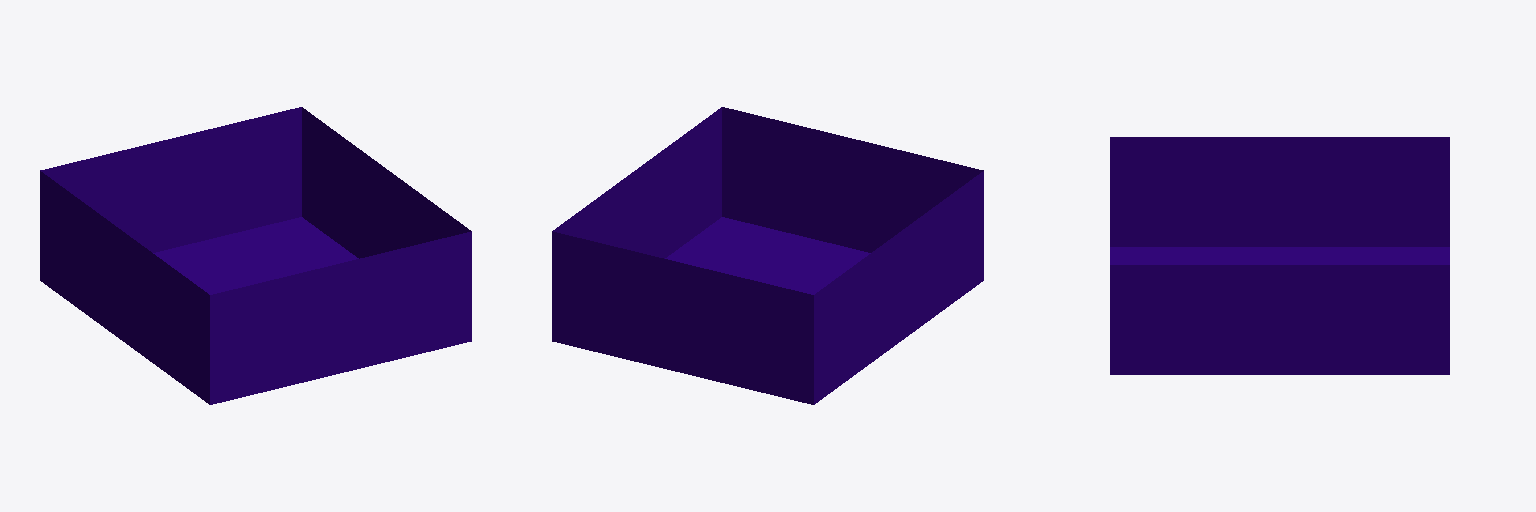
The model's file is Electroguitar_obj.obj.
The picture shows the model from 3 angles: view 1: azimuth 30°, elevation 25°; view 2: azimuth 150°, elevation 25°; view 3: azimuth 270°, elevation 25°; orthographic projection.
Visible parts, largest first — view 1: Box001; view 2: Box001; view 3: Box001.
Boxes of the visible parts, box(x1,y1,x2,y2) form: Box001: box(40, 107, 471, 404); Box001: box(552, 107, 983, 404); Box001: box(1110, 137, 1449, 374).
Bounding box in the file's own units: 9718 × 3907 × 10947.